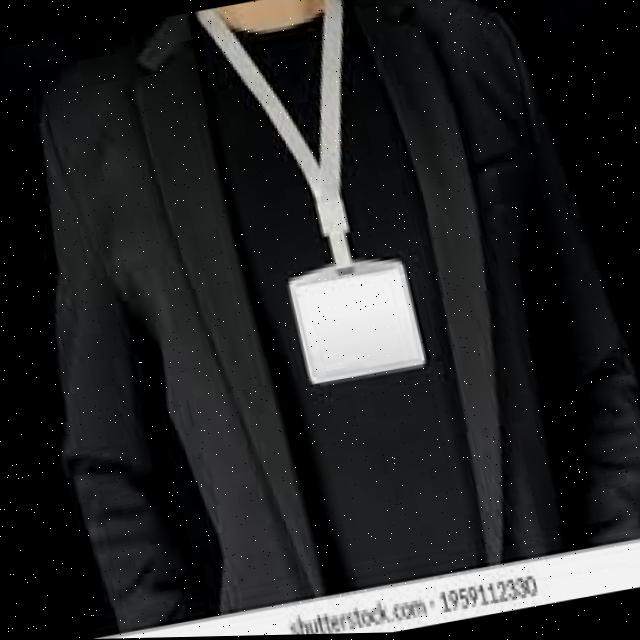id_card: (190, 0, 451, 404)
